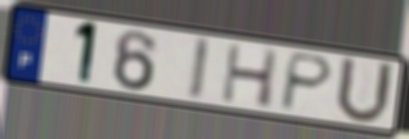1: (69, 19, 100, 89)
6: (113, 28, 160, 93)
H: (219, 41, 281, 110)
I: (186, 34, 213, 104)
P: (276, 50, 336, 114)
U: (332, 53, 397, 127)
